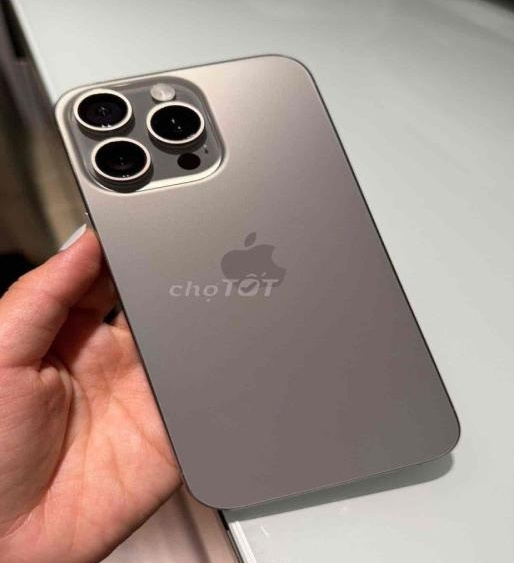scratch: (72, 85, 218, 187)
